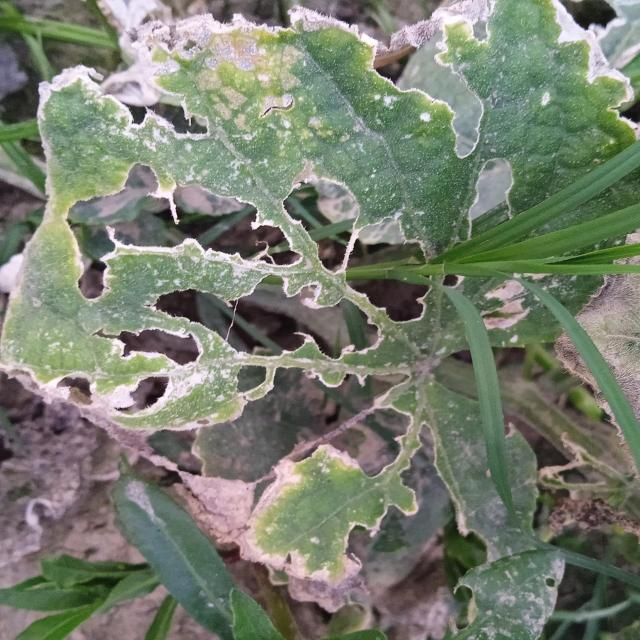cucumber_anthracnose: (11, 9, 620, 594)
